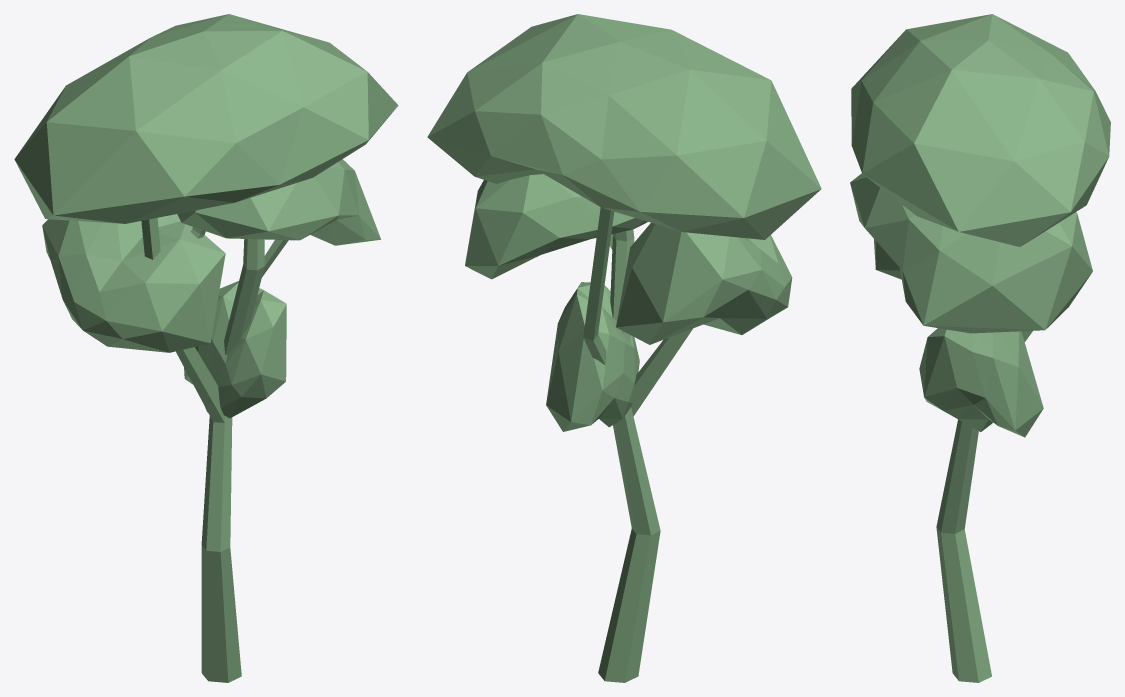
The model's file is tree2.dae.
3 views of the same model, side by side, from view 1: azimuth 30°, elevation 25°; view 2: azimuth 150°, elevation 25°; view 3: azimuth 270°, elevation 25° (orthographic).
Parts seen in each view (by area): view 1: Tree_Type3_04_mesh; view 2: Tree_Type3_04_mesh; view 3: Tree_Type3_04_mesh.
Boxes of the visible parts, x1,y1,x2,y2 form: Tree_Type3_04_mesh: [14, 14, 398, 682]; Tree_Type3_04_mesh: [427, 14, 821, 682]; Tree_Type3_04_mesh: [850, 14, 1110, 682].
Size of the model in its own units: 3.47 by 2.24 by 5.96.
